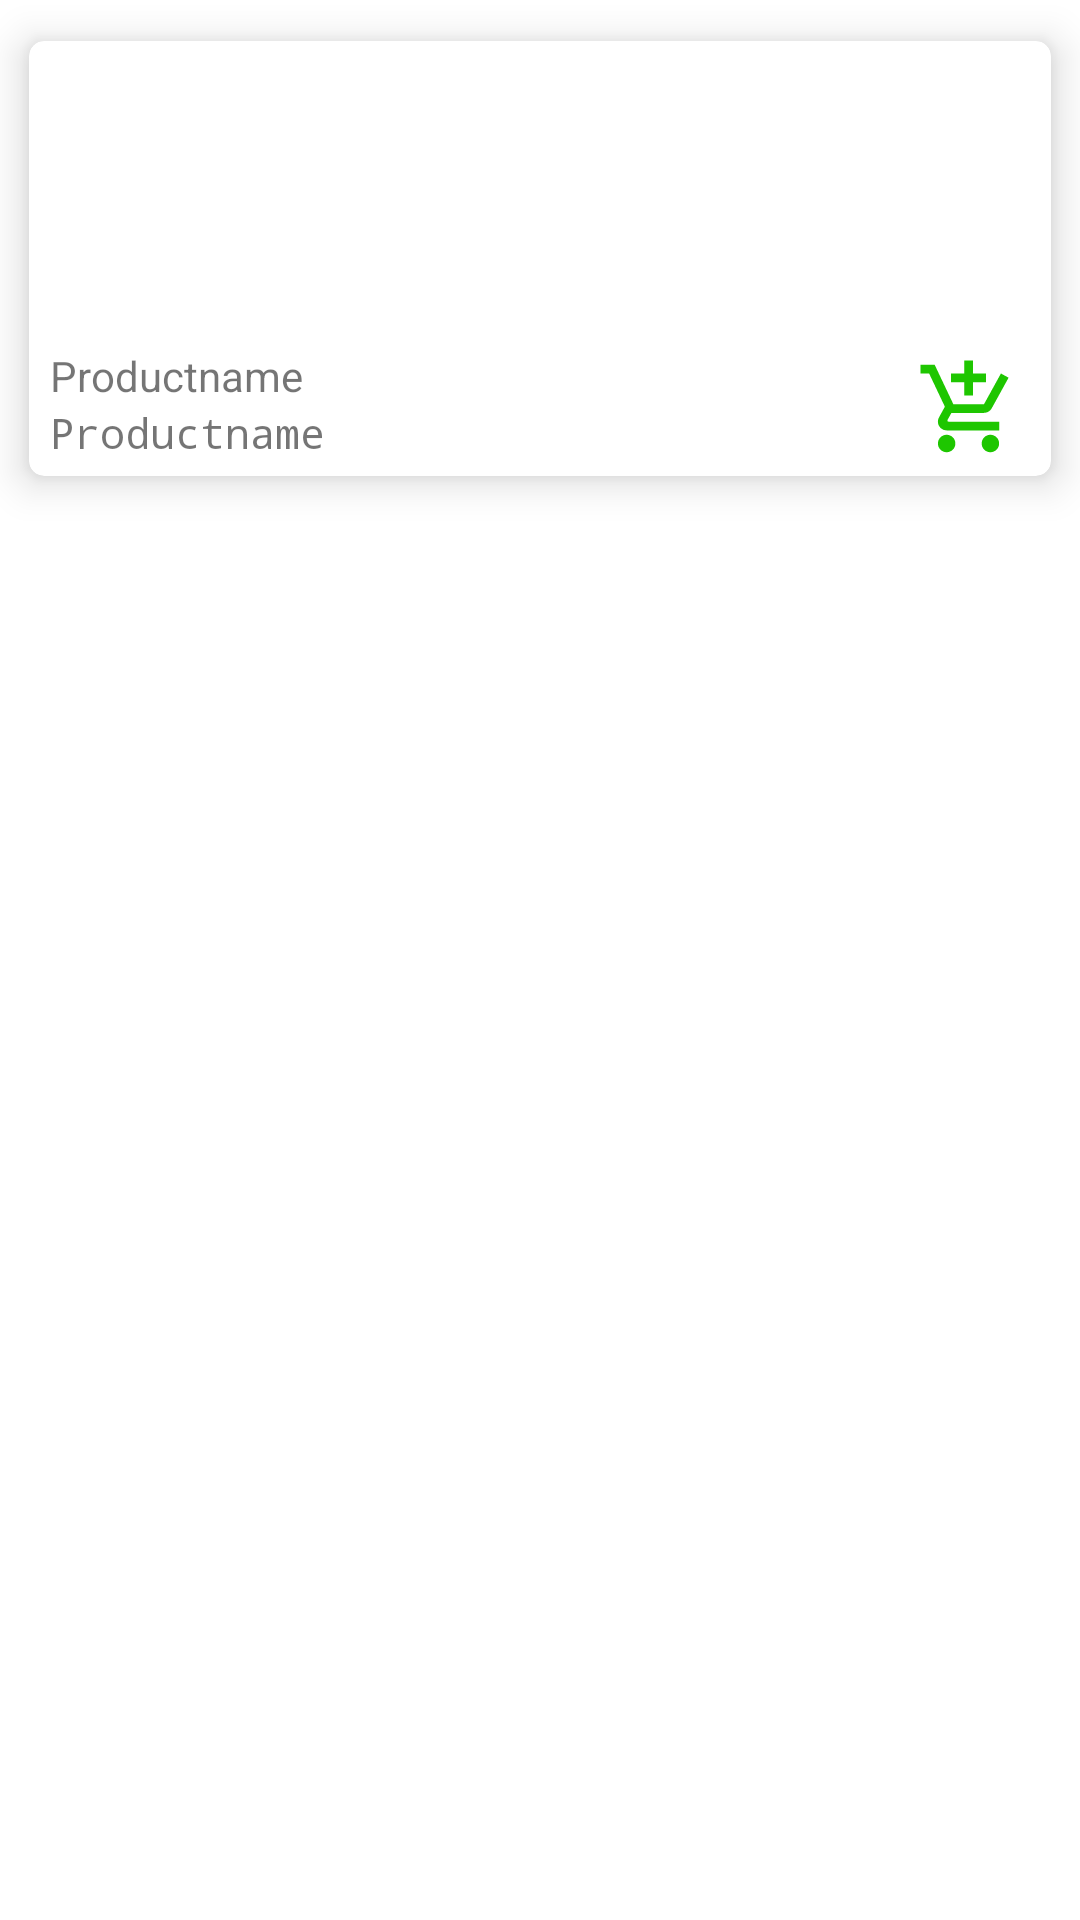

Icons on this 1080*1920 Android screen, each with the point to tap as point (x, y):
add shopping cart: point (964, 406)
